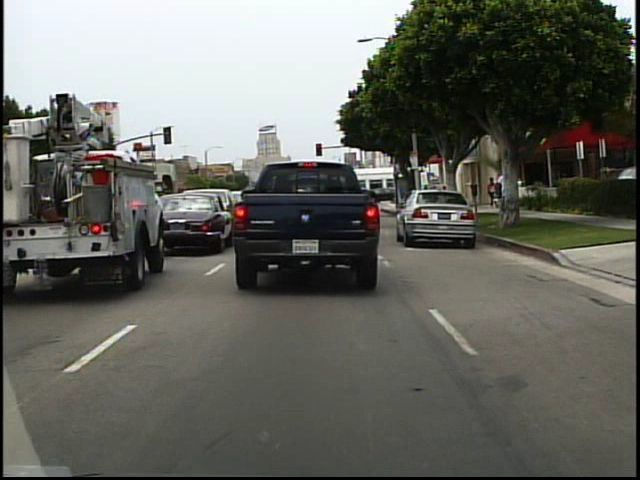person: (486, 177, 498, 208)
